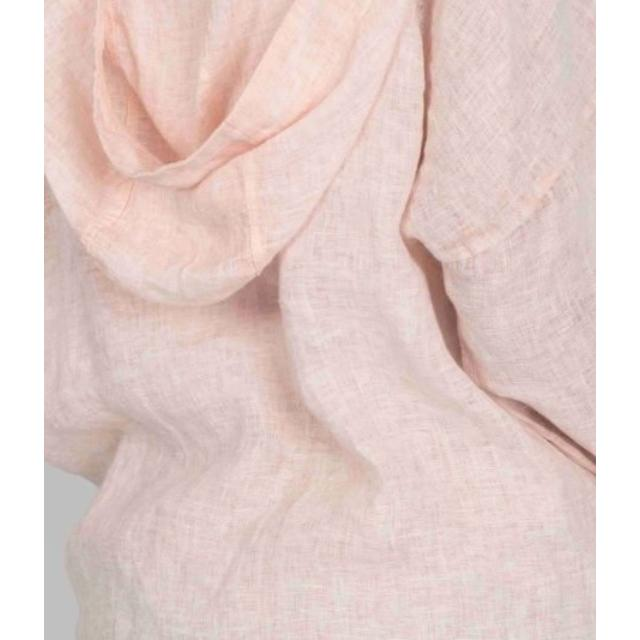linen: (44, 0, 596, 640)
